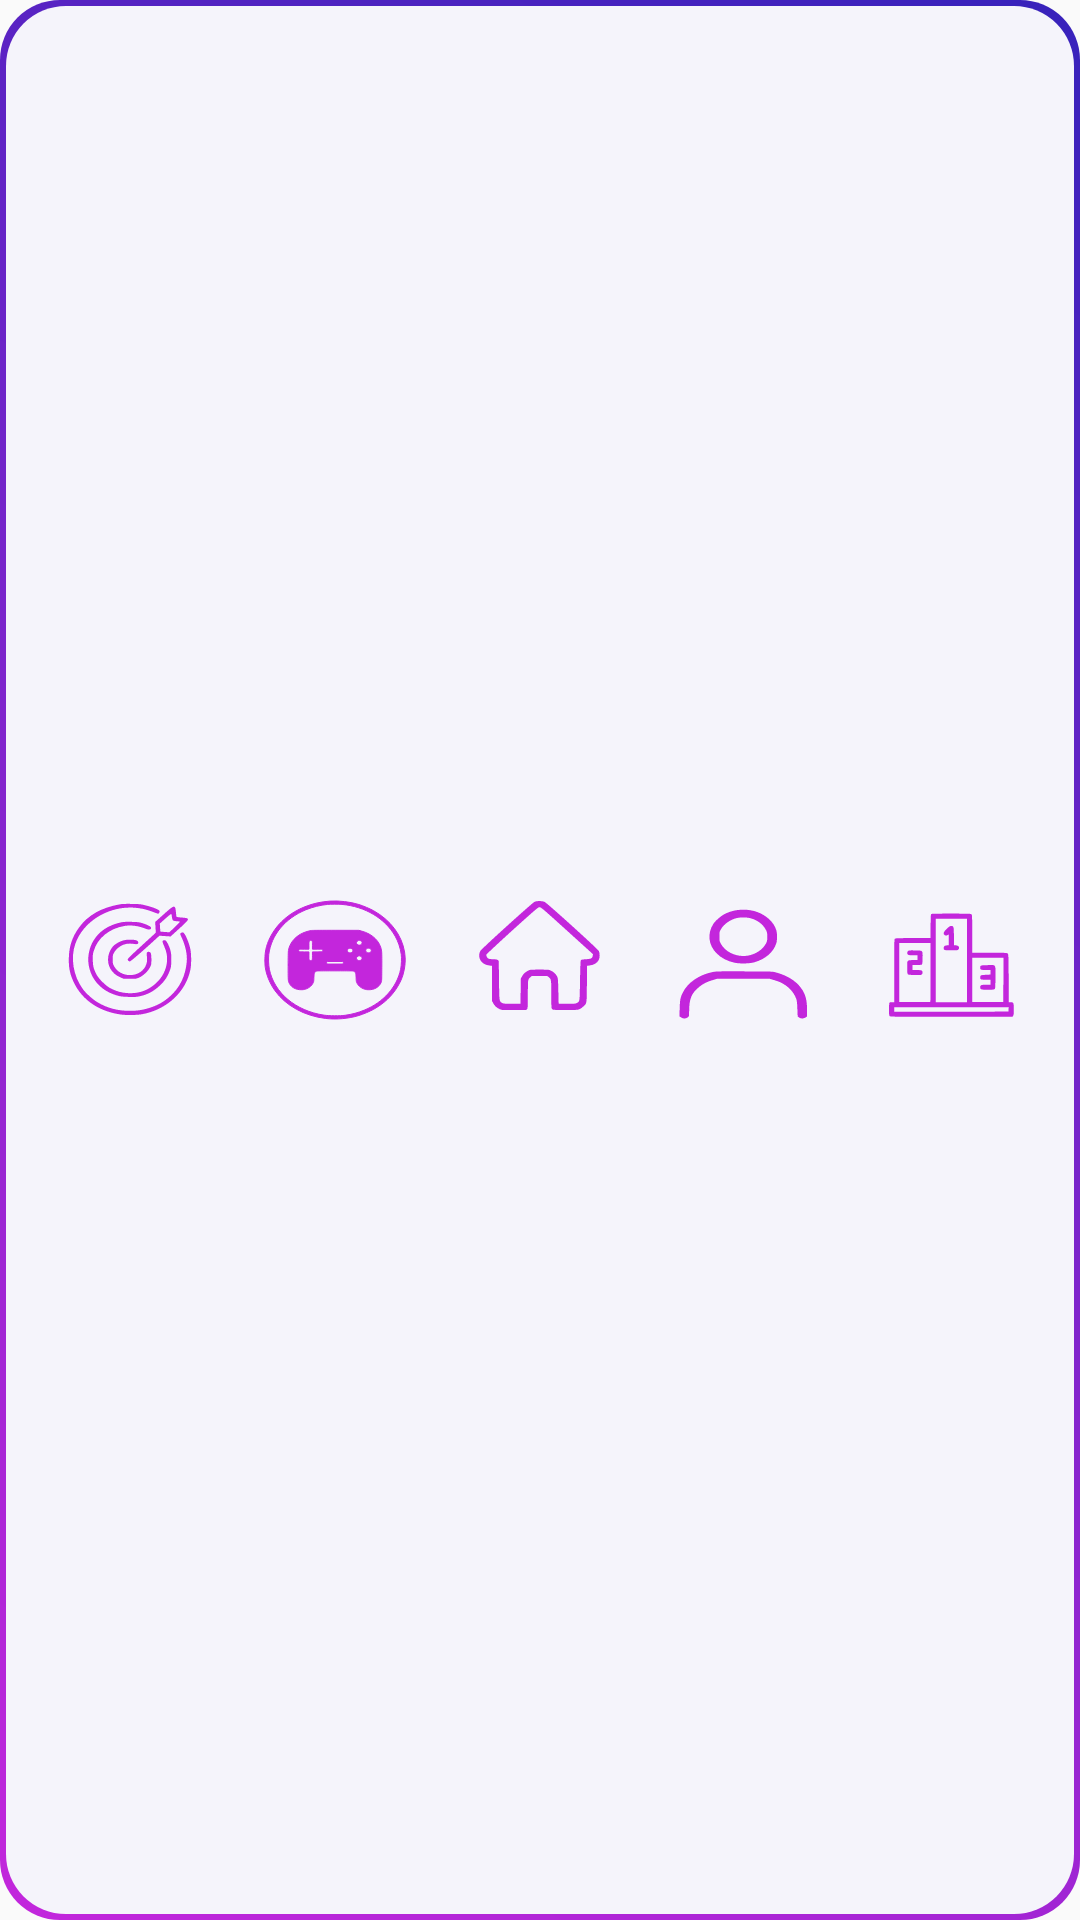

Icon bounding boxes for this 1080px x 1920px phone screenshot, format (x1, y1, x2, y2):
control: (264, 900, 406, 1020)
home: (479, 901, 600, 1010)
person: (679, 909, 807, 1019)
ranking: (889, 913, 1014, 1017)
target: (68, 903, 192, 1015)
